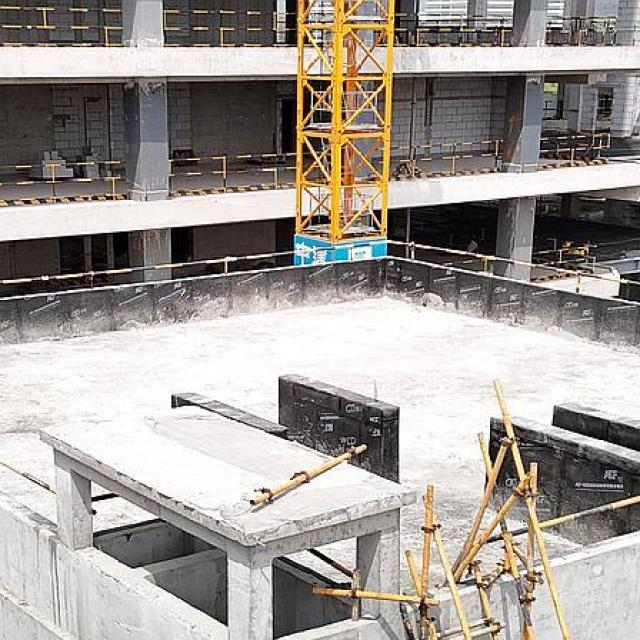edge_guardrail: (1, 236, 640, 291), (161, 7, 513, 47), (481, 491, 640, 544), (167, 149, 332, 194), (0, 160, 127, 203), (369, 138, 505, 178), (0, 4, 124, 47), (538, 132, 612, 168), (545, 13, 618, 47), (530, 247, 590, 267)
